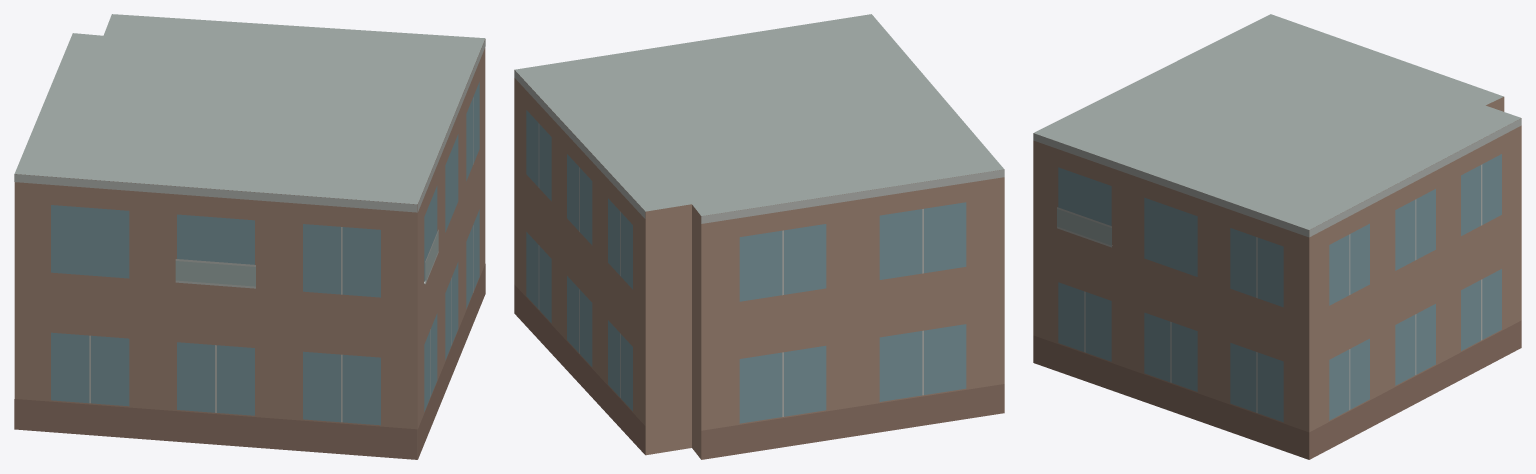
The model's file is survey-upis-33003492.glb.
The picture shows the model from 3 angles, left to right: view 1: azimuth 30°, elevation 25°; view 2: azimuth 150°, elevation 25°; view 3: azimuth 270°, elevation 25°; orthographic projection. The views are drawn at different scales.
Visible parts, largest first — view 1: survey-upis-33003492.tmp; view 2: survey-upis-33003492.tmp; view 3: survey-upis-33003492.tmp.
Part boxes in pixels (bbox=[...]): survey-upis-33003492.tmp: bbox=[14, 14, 485, 459]; survey-upis-33003492.tmp: bbox=[514, 14, 1004, 459]; survey-upis-33003492.tmp: bbox=[1033, 14, 1521, 459].
Size of the model in its own units: 15.34 by 7.6 by 14.65.
